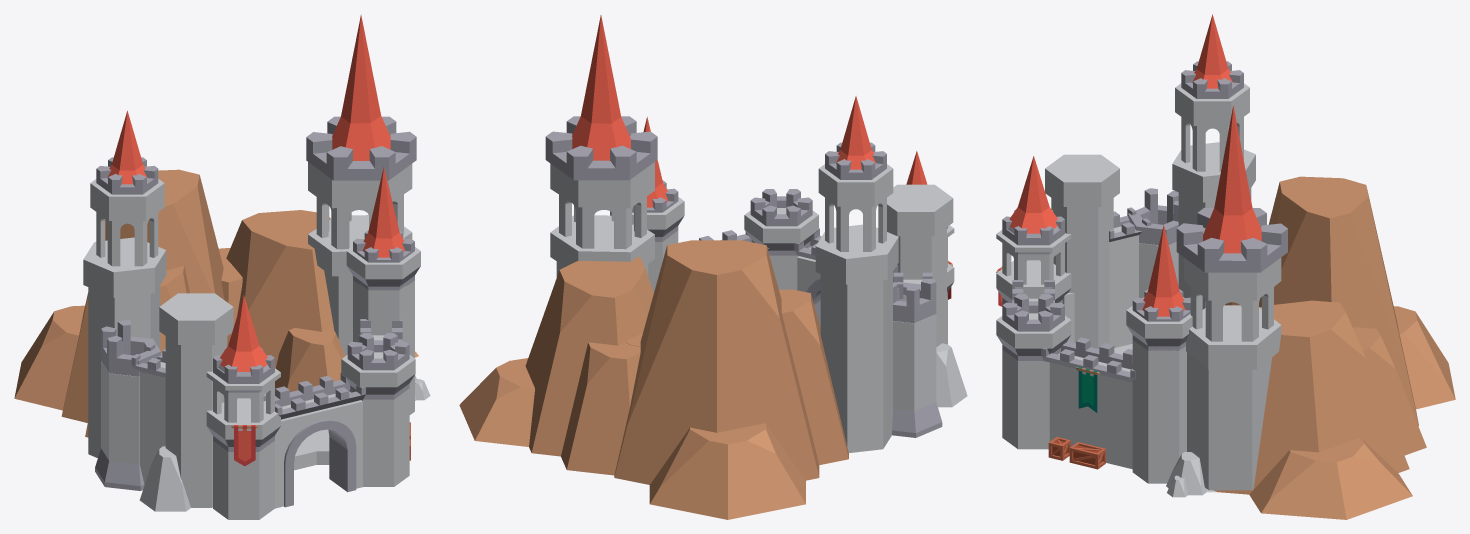
Rendered from catsle.fbx.
3 renders of one model, left to right at view 1: azimuth 30°, elevation 25°; view 2: azimuth 150°, elevation 25°; view 3: azimuth 270°, elevation 25°, orthographic.
Parts seen in each view (by area): view 1: rocks (×2), hexagon (×7), hexagon_ring (×5), hexagon_overhang (×4), hexagon_roof (×4), hexagon_castleBattlement (×5), wall_gate, hexagon_arches (×3), wall (×2), wall_battlement (×3), hexagon_base, rock (+2 smaller); view 2: rocks (×2), hexagon (×3), hexagon_ring (×5), hexagon_castleBattlement (×3), hexagon_roof (×2), hexagon_arches (×2), hexagon_overhang (×2), hexagon_base, hexagon_castleBattlementHalf, rock, wall_gate; view 3: rocks (×3), hexagon (×6), hexagon_ring (×5), hexagon_castleBattlement (×5), hexagon_roof (×4), wall (×3), hexagon_overhang (×4), hexagon_arches (×3), wall_battlement (×3), hexagon_castleBattlementHalf, banner_green, detail_crateLong.
Part boxes in pixels (x1,y1,x2,y2): rocks (×2): [14, 169, 418, 437]; hexagon (×7): [88, 271, 414, 519]; hexagon_ring (×5): [83, 162, 412, 344]; hexagon_overhang (×4): [206, 238, 420, 471]; hexagon_roof (×4): [107, 14, 404, 375]; hexagon_castleBattlement (×5): [96, 116, 416, 383]; wall_gate: [275, 391, 362, 508]; hexagon_arches (×3): [96, 194, 403, 422]; wall (×2): [139, 362, 329, 484]; wall_battlement (×3): [131, 343, 365, 419]; hexagon_base: [95, 424, 144, 490]; rock: [139, 446, 190, 511]; rocks (×2): [459, 240, 848, 519]; hexagon (×3): [820, 227, 946, 452]; hexagon_ring (×5): [550, 162, 953, 284]; hexagon_castleBattlement (×3): [545, 116, 886, 226]; hexagon_roof (×2): [572, 15, 875, 169]; hexagon_arches (×2): [559, 194, 886, 251]; hexagon_overhang (×2): [610, 188, 818, 274]; hexagon_base: [892, 377, 942, 437]; hexagon_castleBattlementHalf: [893, 278, 936, 323]; rock: [936, 343, 967, 407]; wall_gate: [797, 247, 820, 327]; rocks (×3): [1166, 176, 1455, 519]; hexagon (×6): [1002, 188, 1271, 490]; hexagon_ring (×5): [1045, 83, 1281, 369]; hexagon_castleBattlement (×5): [1002, 61, 1287, 331]; hexagon_roof (×4): [1008, 14, 1261, 316]; wall (×3): [1049, 226, 1138, 469]; hexagon_overhang (×4): [996, 230, 1192, 380]; hexagon_arches (×3): [1002, 117, 1273, 341]; wall_battlement (×3): [1041, 207, 1151, 382]; hexagon_castleBattlementHalf: [1128, 188, 1178, 245]; banner_green: [1076, 367, 1099, 412]; detail_crateLong: [1069, 442, 1105, 469].
Bounding box in the file's own units: 82.53 × 76 × 84.8.
